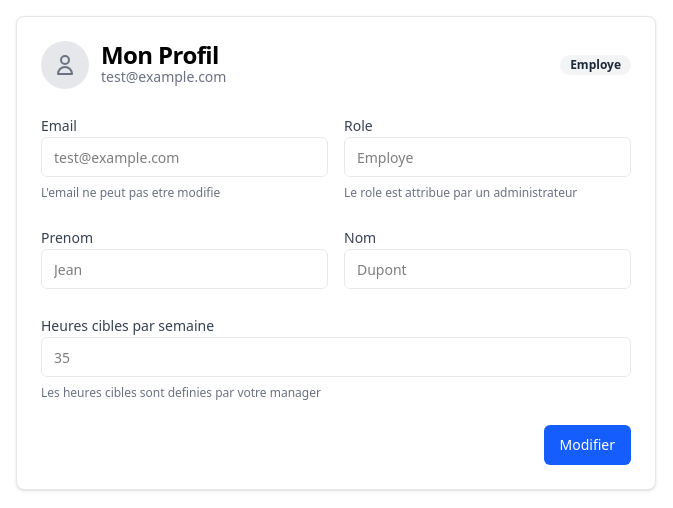
Test case: ProfilePage › Edit Mode Toggle - AC2 › switches to edit mode when Modifier is clicked
Expected: the heading "Mon Profil" is shown, x1=101 y1=43 x2=226 y2=67
Click the button "Modifier". click: x=587, y=445
box: x1=544 y1=425 x2=631 y2=465
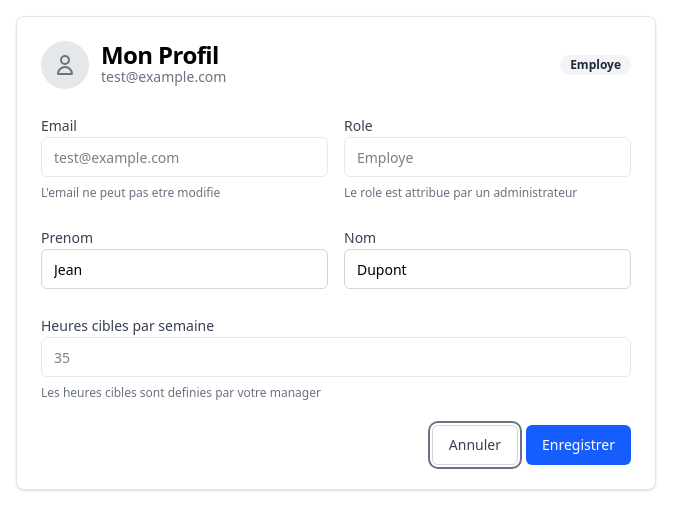
Expected: the button "Enregistrer" is shown, x1=526 y1=425 x2=631 y2=465
Expected: the button "Annuler" is shown, x1=432 y1=425 x2=518 y2=465
